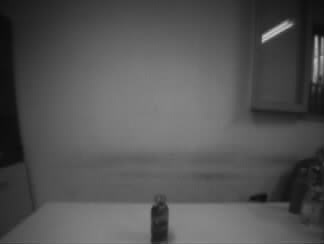Bottle: (150, 194, 170, 244)
